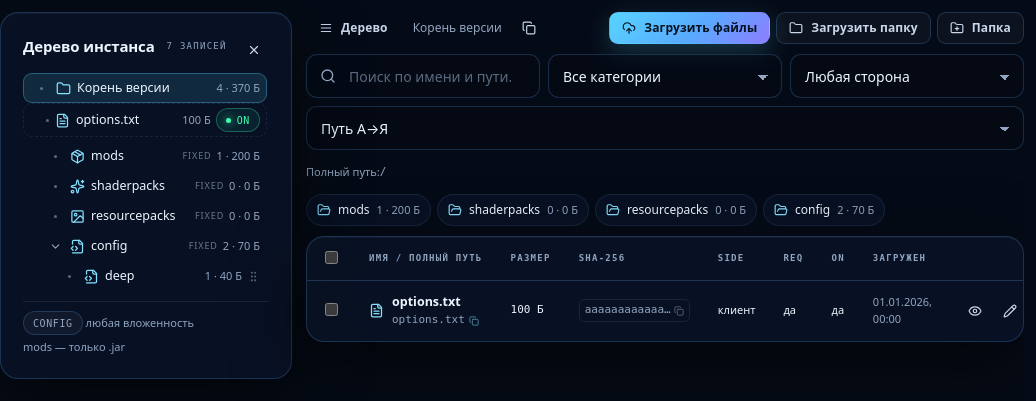
Test: BuildFileManager › renders the canonical skeleton and navigates folders
The width and height of the screenshot is (1036, 401).
Expected: the button with test id "build-tree-options" is shown, [23,103,267,137]
Step 1. Click the element with test id "build-tree-config" → (109, 245), box [23,231,267,261]
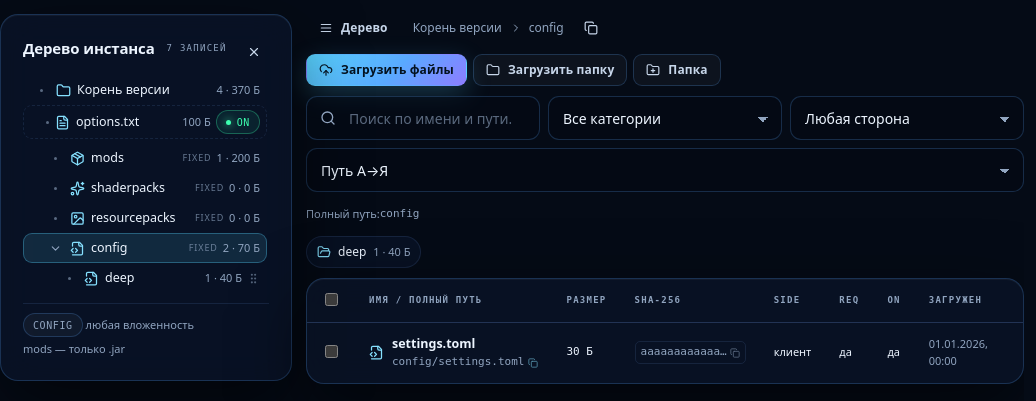
Result: the button "config/settings.toml" is shown at [392,354,538,371]
Step 2. Click the text "deep" below "resourcepacks" → (120, 277), box [105,269,134,286]
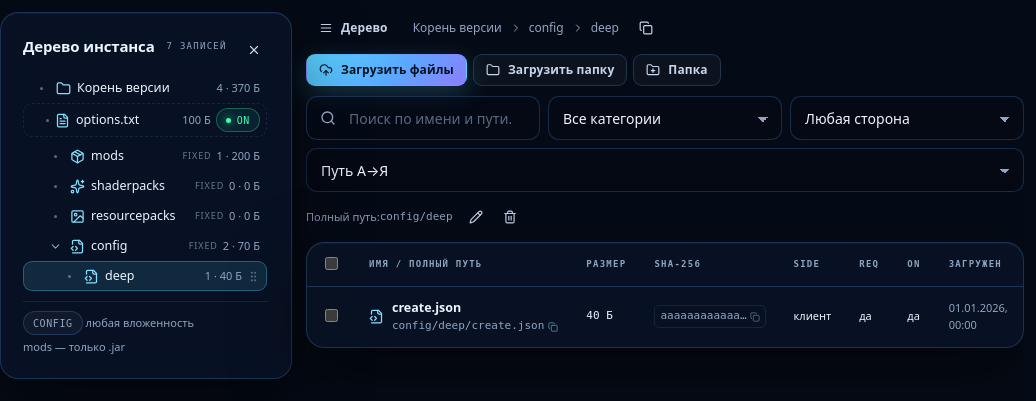
Result: the text "create.json" is shown at [392,298,461,316]
